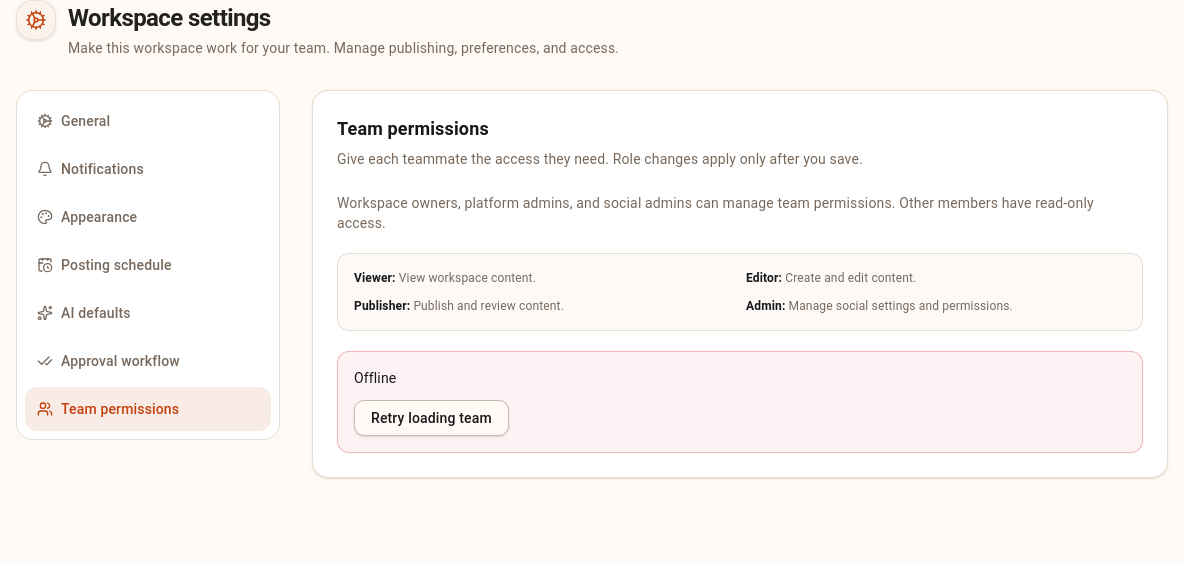
Test: SocialTeamPermissions › retries loading after errors and never leaves a fake skeleton
Expected: the message shows "Offline", [354,370,396,386]
Click the button "Retry loading team".
click(431, 418)  # box [354,400,509,436]
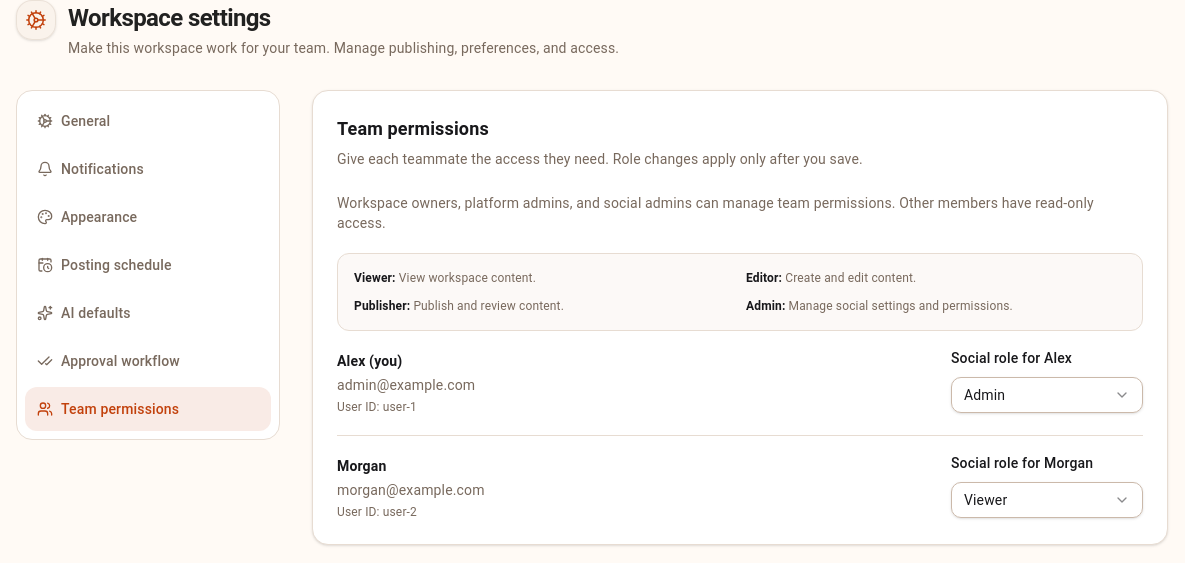
Expected: the dropdown named "Social role for Morgan" is shown, [951,482,1143,518]
